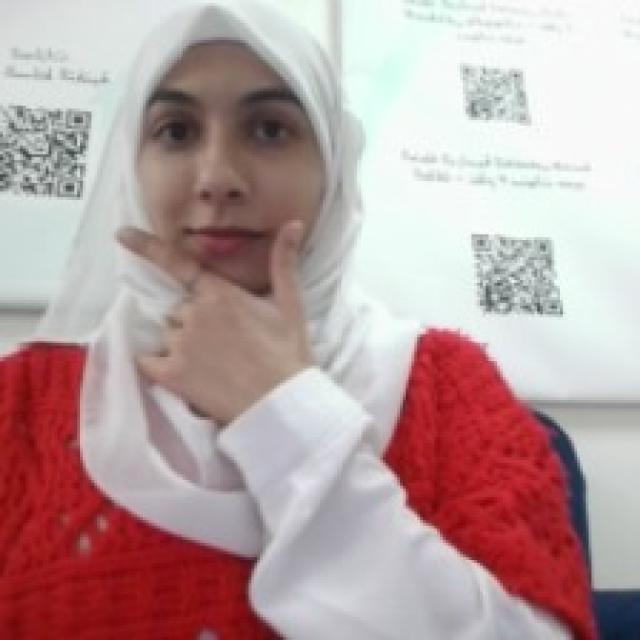smile: (109, 209, 314, 400)
